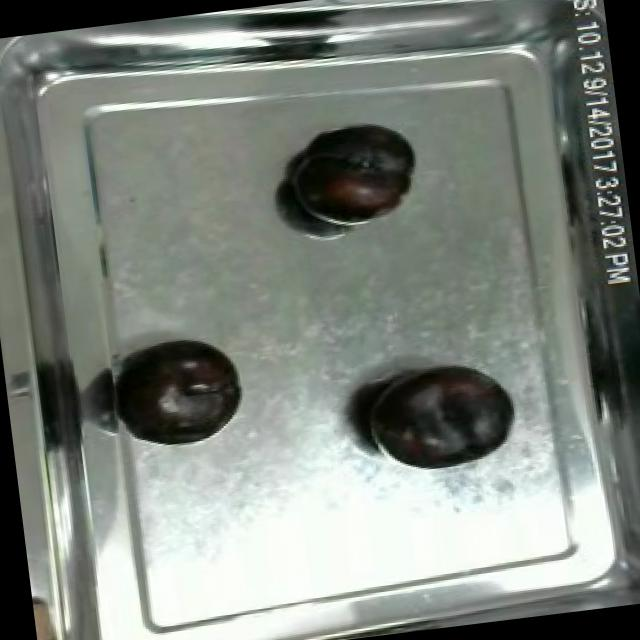Fruit: (352, 351, 524, 482), (108, 328, 252, 447), (279, 113, 424, 231), (30, 578, 83, 640)
